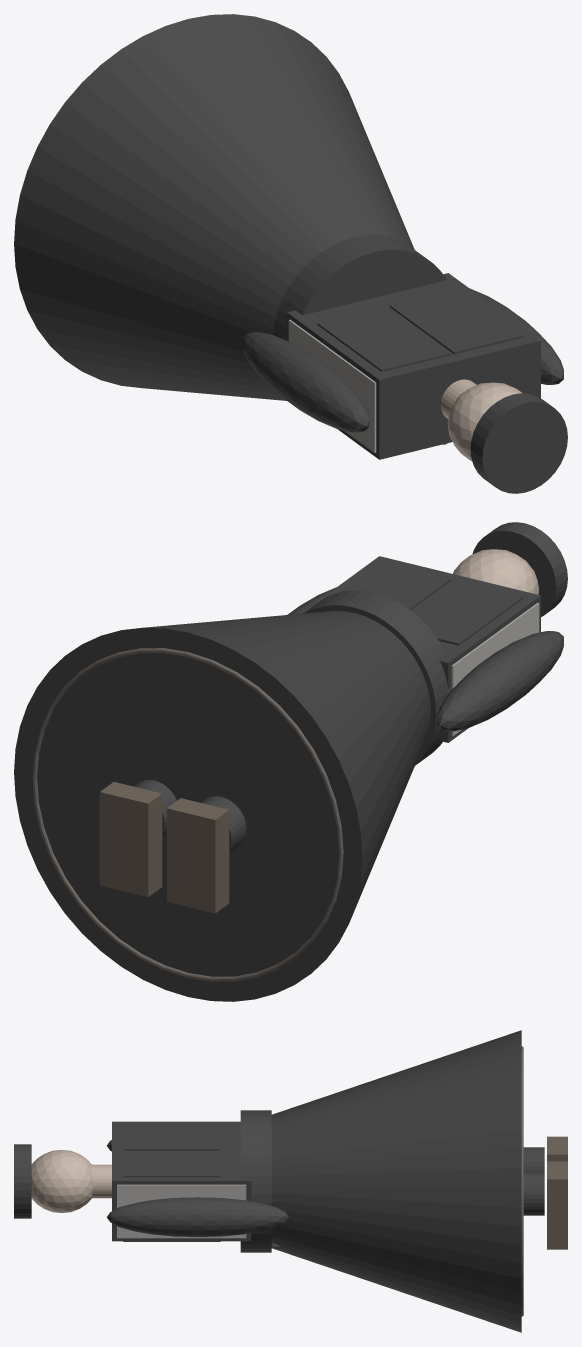
File: MASTER_073_STAGE3_DETAIL.glb
The picture shows the model from 3 angles, top to bottom: view 1: azimuth 30°, elevation 25°; view 2: azimuth 150°, elevation 25°; view 3: azimuth 270°, elevation 25°; orthographic projection. The views are drawn at different scales.
Parts seen in each view (by area): view 1: slot_lower_main__fund_i_gjatë, slot_upper_inner__këmishë, slot_waist__brez, slot_headwear__mbulesë_koke, slot_upper_inner_sleeve_L, slot_upper_outer__jelek_L, slot_upper_outer__jelek_R, mannequin_torso, mannequin_head, slot_upper_inner_sleeve_R; view 2: slot_lower_main__fund_i_gjatë, slot_footwear__opinga_R, slot_footwear__opinga_L, slot_upper_inner_sleeve_L, detail_skirt_hem, slot_waist__brez, slot_upper_outer__jelek_L, slot_headwear__mbulesë_koke, slot_upper_inner__këmishë, slot_upper_outer__jelek_R, mannequin_head, mannequin_torso (+2 smaller); view 3: slot_lower_main__fund_i_gjatë, slot_upper_inner_sleeve_R, slot_upper_inner__këmishë, mannequin_head, slot_waist__brez, slot_upper_outer__jelek_R, mannequin_torso, slot_upper_outer__jelek_L, slot_footwear__opinga_R, slot_headwear__mbulesë_koke, slot_legwear__çorape_R, detail_skirt_hem (+3 smaller).
Part boxes in pixels (x1,y1,x2,y2): slot_lower_main__fund_i_gjatë: (14, 14, 414, 400); slot_upper_inner__këmishë: (287, 273, 540, 459); slot_waist__brez: (273, 234, 446, 341); slot_headwear__mbulesë_koke: (470, 393, 567, 493); slot_upper_inner_sleeve_L: (242, 332, 369, 432); slot_upper_outer__jelek_L: (317, 306, 450, 371); slot_upper_outer__jelek_R: (389, 288, 523, 354); mannequin_torso: (288, 319, 376, 452); mannequin_head: (447, 382, 522, 460); slot_upper_inner_sleeve_R: (470, 288, 563, 384); slot_lower_main__fund_i_gjatë: (14, 610, 430, 1001); slot_footwear__opinga_R: (99, 782, 162, 896); slot_footwear__opinga_L: (167, 798, 229, 913); slot_upper_inner_sleeve_L: (437, 631, 563, 731); detail_skirt_hem: (32, 648, 343, 981); slot_waist__brez: (303, 590, 451, 765); slot_upper_outer__jelek_L: (412, 579, 523, 645); slot_headwear__mbulesë_koke: (472, 522, 567, 616); slot_upper_inner__këmishë: (301, 556, 540, 742); slot_upper_outer__jelek_R: (341, 562, 450, 609); mannequin_head: (453, 549, 539, 594); mannequin_torso: (451, 602, 539, 735); slot_lower_main__fund_i_gjatë: (271, 1030, 521, 1332); slot_upper_inner_sleeve_R: (107, 1197, 288, 1236); slot_upper_inner__këmishë: (112, 1121, 251, 1241); mannequin_head: (31, 1150, 92, 1212); slot_waist__brez: (240, 1110, 271, 1252); slot_upper_outer__jelek_R: (123, 1150, 220, 1241); mannequin_torso: (117, 1184, 246, 1238); slot_upper_outer__jelek_L: (123, 1124, 220, 1150); slot_footwear__opinga_R: (547, 1161, 567, 1249); slot_headwear__mbulesë_koke: (14, 1144, 31, 1218); slot_legwear__çorape_R: (523, 1172, 544, 1215); detail_skirt_hem: (521, 1046, 523, 1316).
Size of the model in its own units: 0.9355 by 0.9355 by 1.71.
